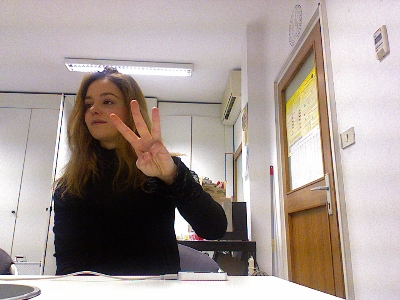三分: (109, 98, 175, 179)
